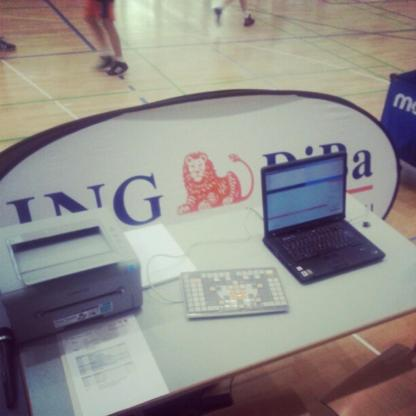board: (260, 145, 388, 286)
